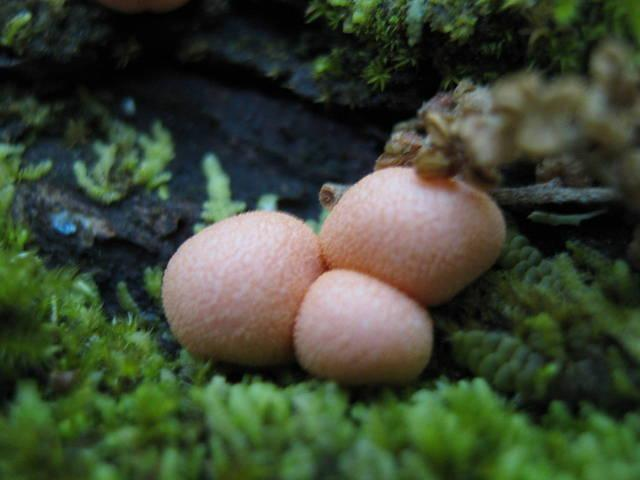Non-edible Mushroom: (159, 84, 514, 384), (318, 163, 507, 305), (159, 208, 323, 366), (291, 267, 434, 384)
